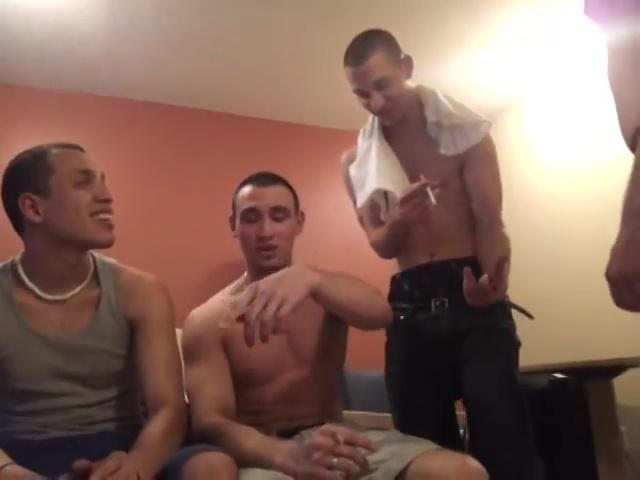cigarette: (420, 173, 438, 207), (331, 430, 346, 448)
